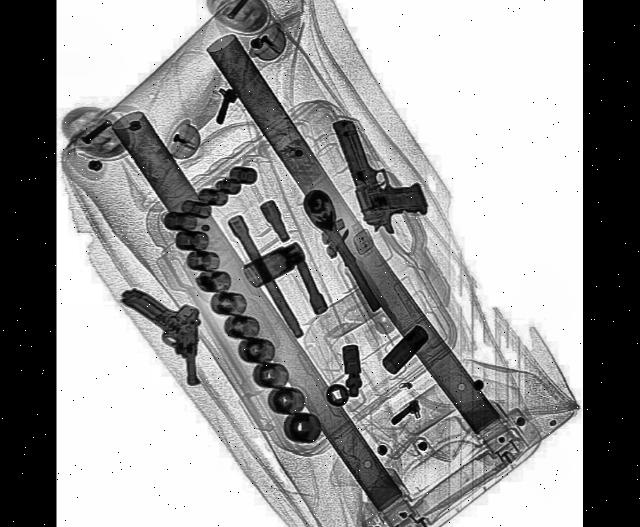Gun: (330, 87, 430, 246), (120, 288, 199, 384)
